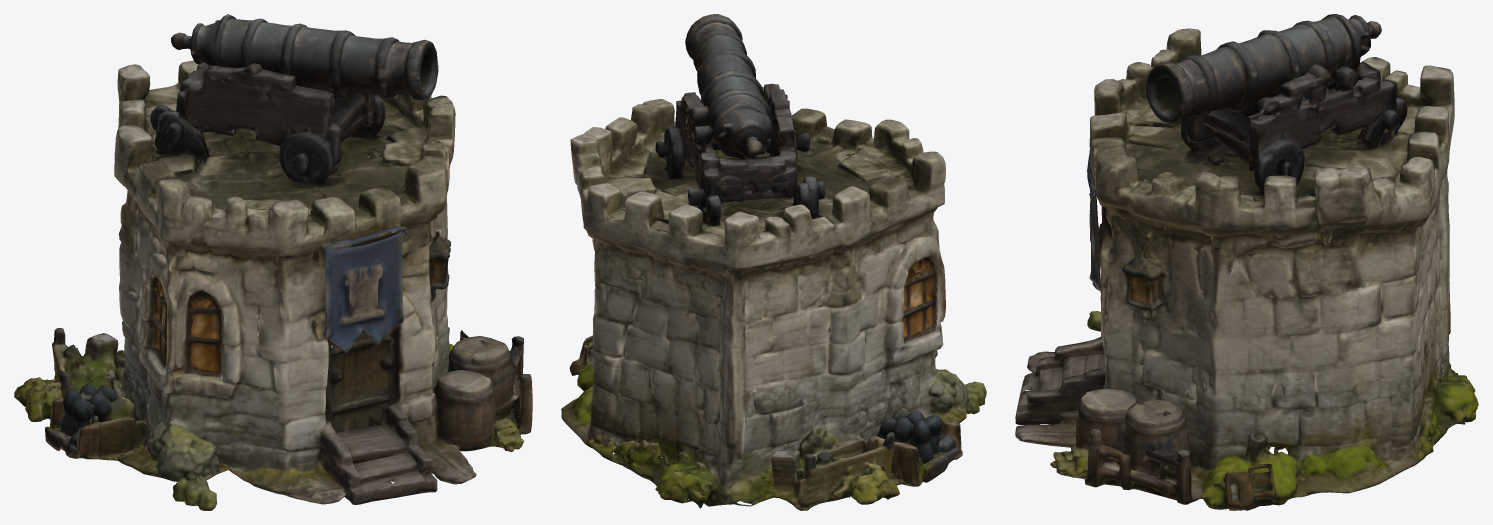
Rendered from bombarding_tower.glb.
3 views of the same model, side by side, from view 1: azimuth 30°, elevation 25°; view 2: azimuth 150°, elevation 25°; view 3: azimuth 270°, elevation 25° (orthographic). The views are drawn at different scales.
Parts seen in each view (by area): view 1: bombarding_tower_s7_fit; view 2: bombarding_tower_s7_fit; view 3: bombarding_tower_s7_fit.
Part boxes in pixels (x1,y1,x2,y2): bombarding_tower_s7_fit: (14, 14, 532, 510); bombarding_tower_s7_fit: (561, 14, 986, 510); bombarding_tower_s7_fit: (1015, 14, 1478, 510).
Bounding box in the file's own units: 3.83 × 3.51 × 3.58.
1 material, 1 textured.
